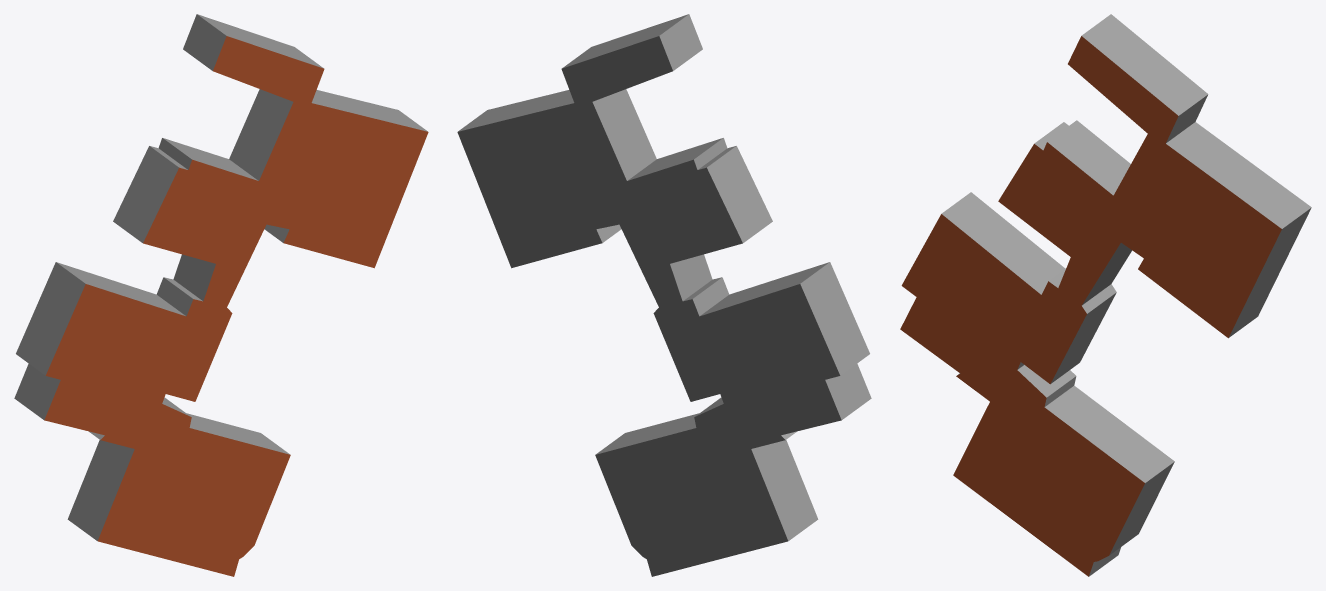
Rendered from construction_0469_assumed_A_Casa_h6m.obj.
3 renders of one model, left to right at view 1: azimuth 30°, elevation 25°; view 2: azimuth 150°, elevation 25°; view 3: azimuth 330°, elevation 25°, orthographic.
Parts seen in each view (by area): view 1: construction_0469_assumed_A_Casa; view 2: construction_0469_assumed_A_Casa; view 3: construction_0469_assumed_A_Casa.
Boxes of the visible parts, x1,y1,x2,y2 form: construction_0469_assumed_A_Casa: (14, 14, 428, 576); construction_0469_assumed_A_Casa: (457, 14, 871, 576); construction_0469_assumed_A_Casa: (900, 14, 1311, 576).
Bounding box in the file's own units: 44.45 × 59.99 × 6.
